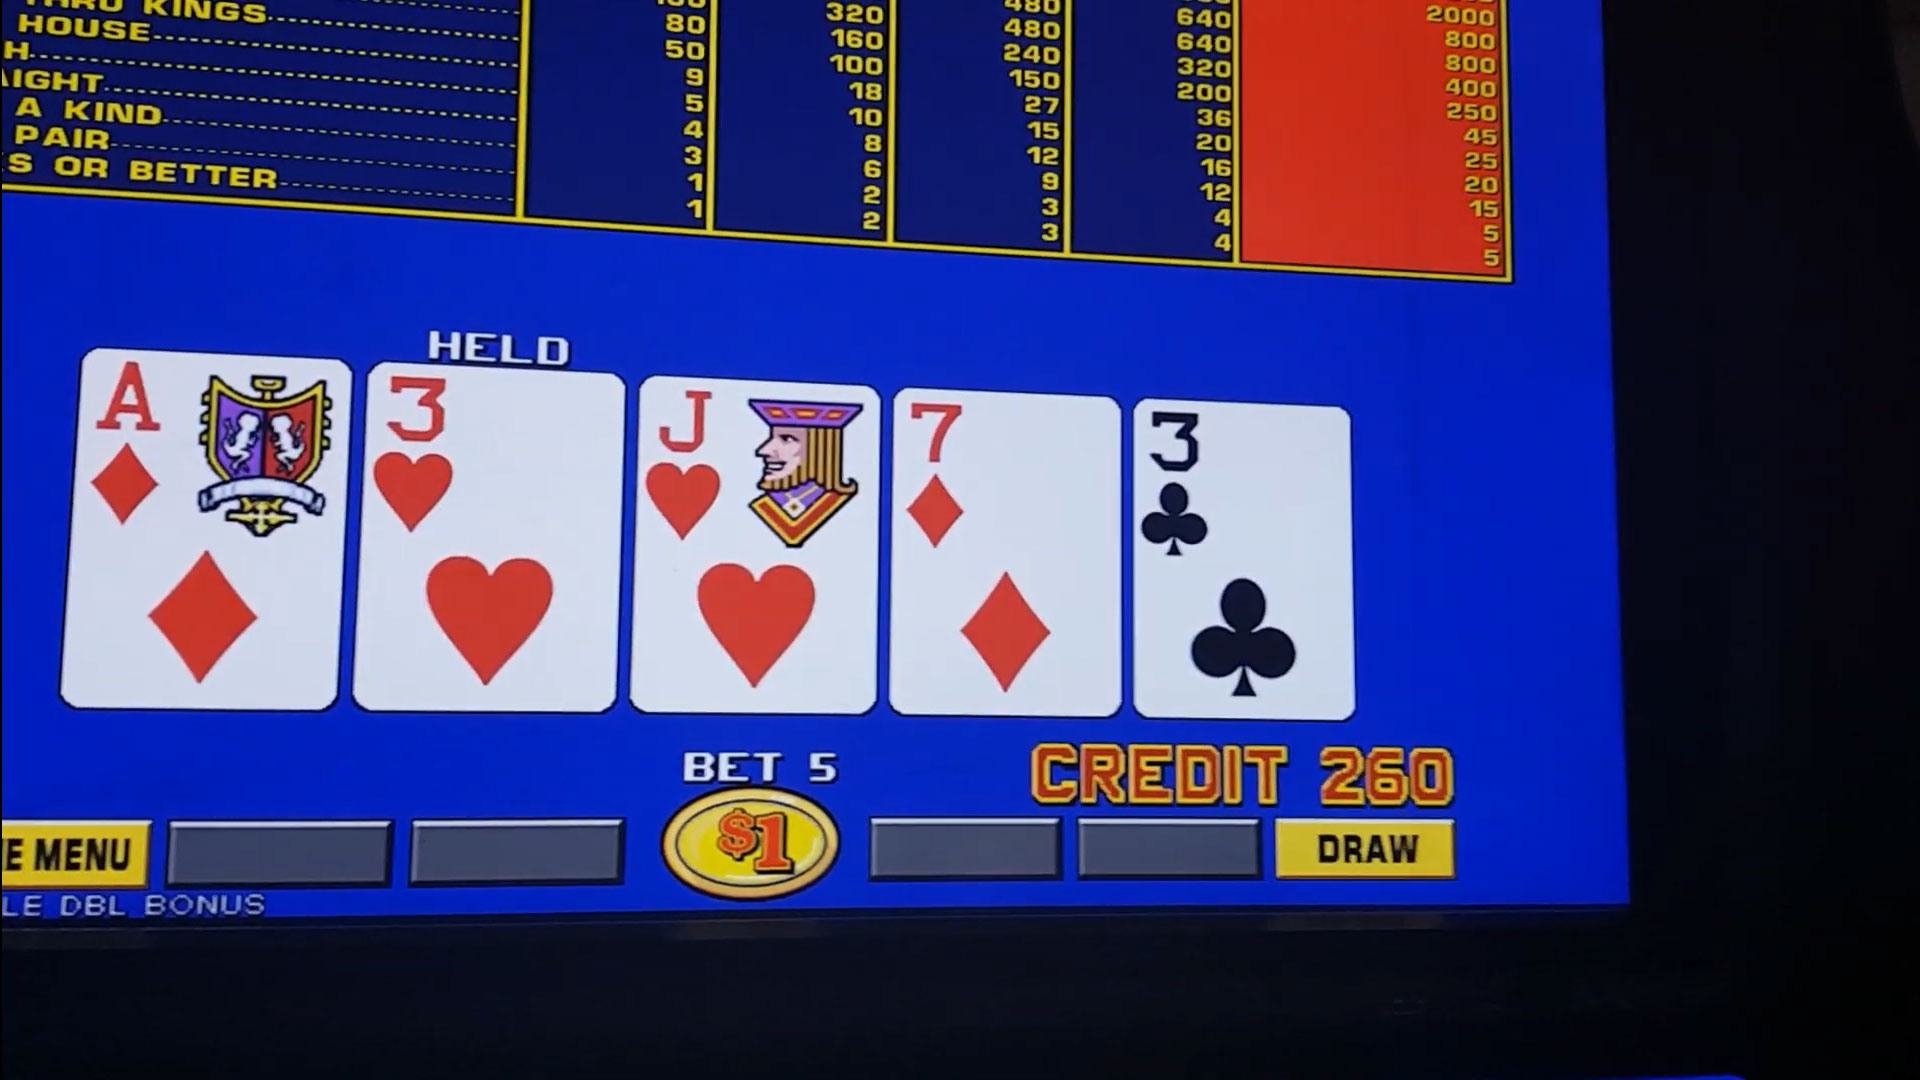C3: (1139, 409, 1342, 564)
D7: (899, 398, 1116, 559)
DA: (78, 359, 345, 537)
H3: (375, 369, 618, 543)
HJ: (644, 389, 878, 563)
